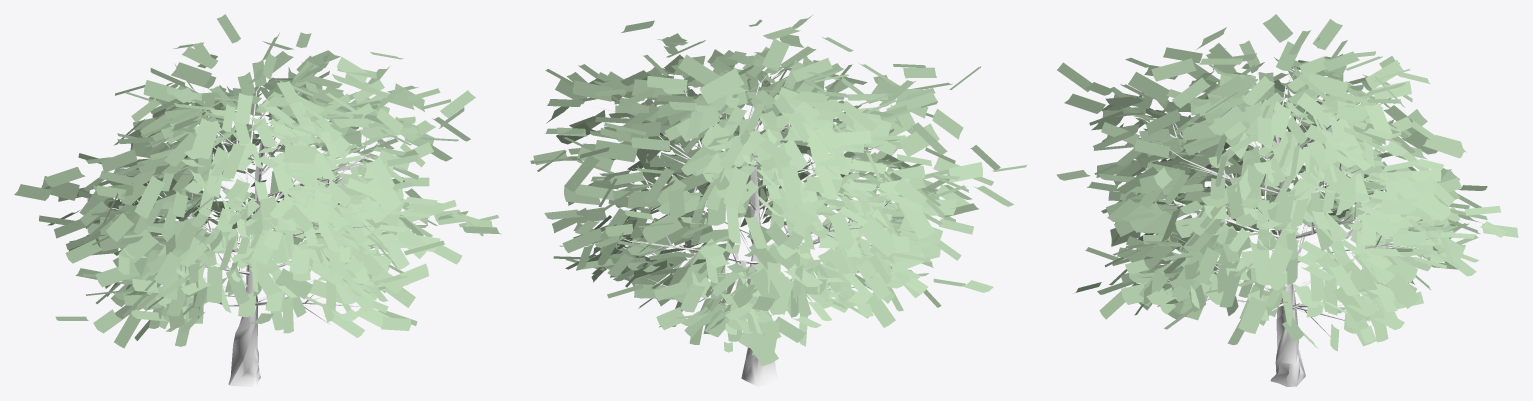
The model's file is tree_small_far.glb.
3 views of the same model, side by side, from view 1: azimuth 30°, elevation 25°; view 2: azimuth 150°, elevation 25°; view 3: azimuth 270°, elevation 25° (orthographic). The views are drawn at different scales.
Visible parts, largest first — view 1: tree_small; view 2: tree_small; view 3: tree_small.
Part boxes in pixels (<box>): tree_small: <box>14,14,501,386</box>; tree_small: <box>530,14,1026,386</box>; tree_small: <box>1056,14,1518,386</box>.
Size of the model in its own units: 3.67 by 2.63 by 3.31.
